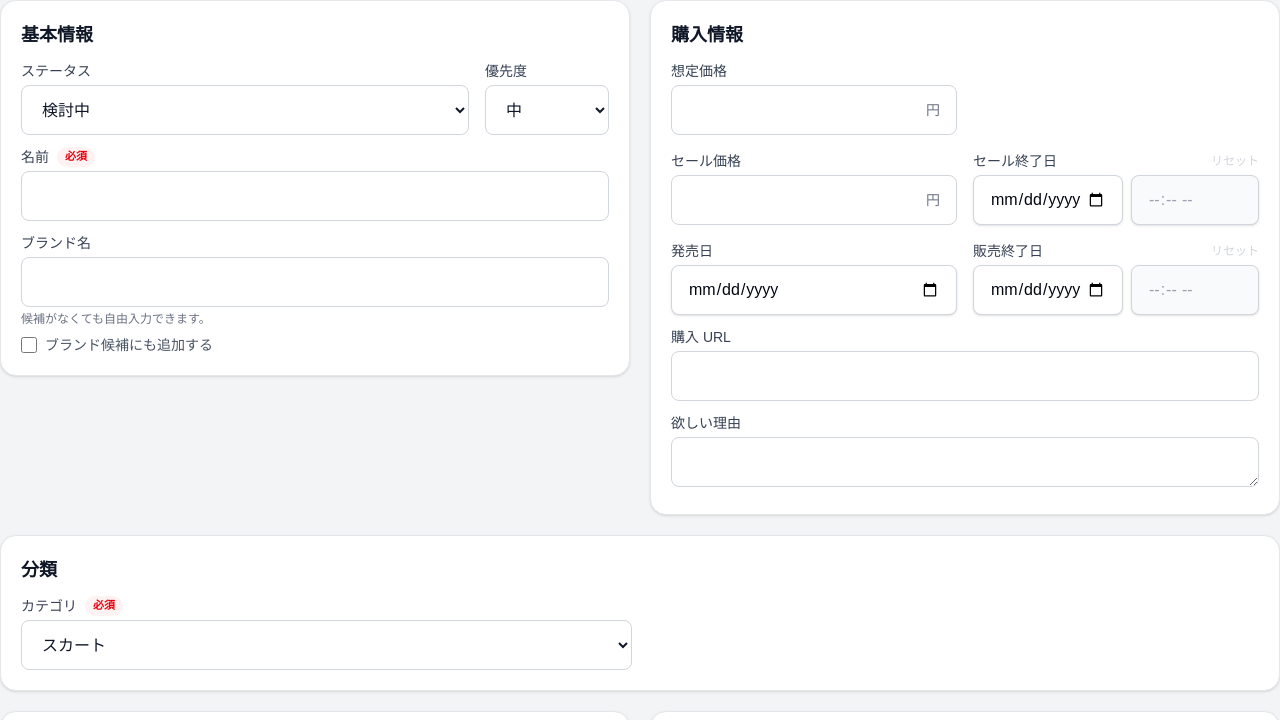
Test case: 購入検討フォーム › skirts では spec UI を表示し、shape UI は表示しない
The image size is (1280, 720).
Step 1. Select "スカート" in the dropdown with id "category_group_id" → {"x": 326, "y": 645}, box top-left (21, 620), bottom-right (632, 670)
Step 2. Select "スカート" in the dropdown with id "category_group_id" → {"x": 326, "y": 645}, box top-left (21, 620), bottom-right (632, 670)
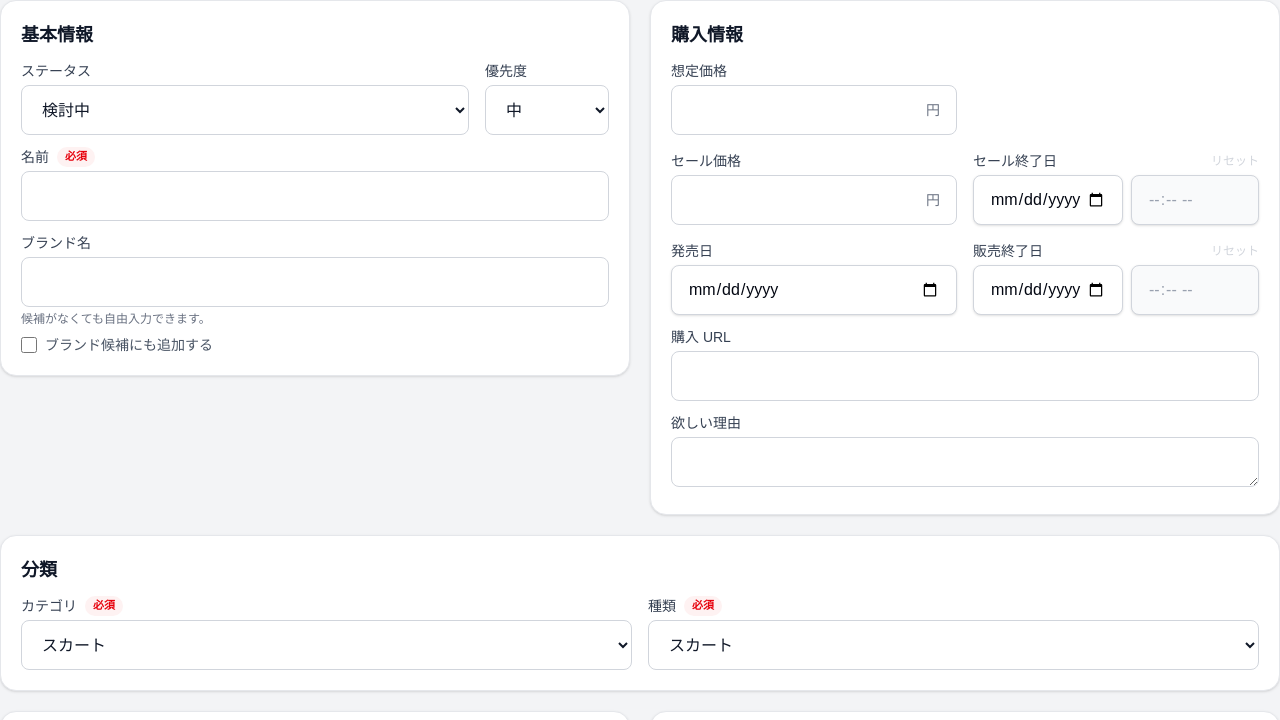
Step 3. Select "スカート" in the dropdown with id "category_id" → {"x": 954, "y": 645}, box top-left (648, 620), bottom-right (1259, 670)
Step 4. Select "スカート" in the dropdown with id "category_id" → {"x": 954, "y": 645}, box top-left (648, 620), bottom-right (1259, 670)
(page scrolled)
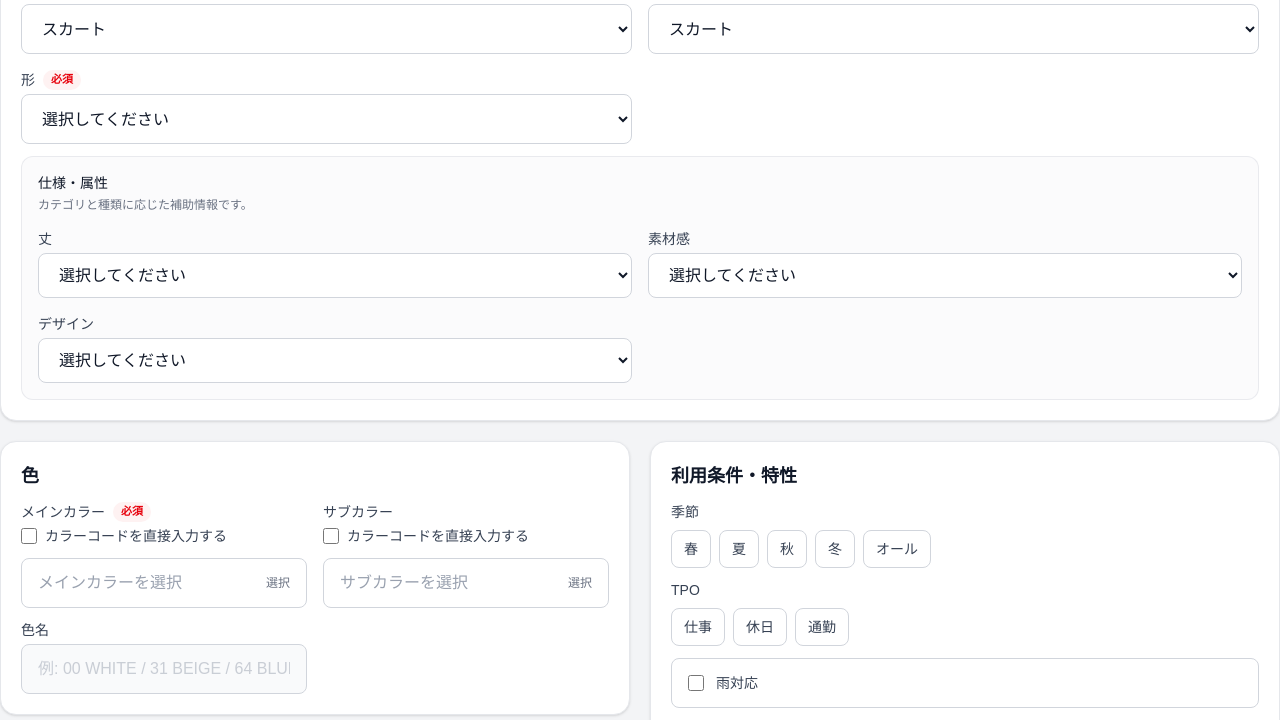
Expected: the dropdown with id "shape" is shown, top-left (21, 94), bottom-right (632, 144)
Expected: the dropdown with id "spec-skirt-length-type" is shown, top-left (38, 253), bottom-right (632, 298)
Expected: the dropdown with id "spec-skirt-material-type" is shown, top-left (648, 253), bottom-right (1242, 298)
